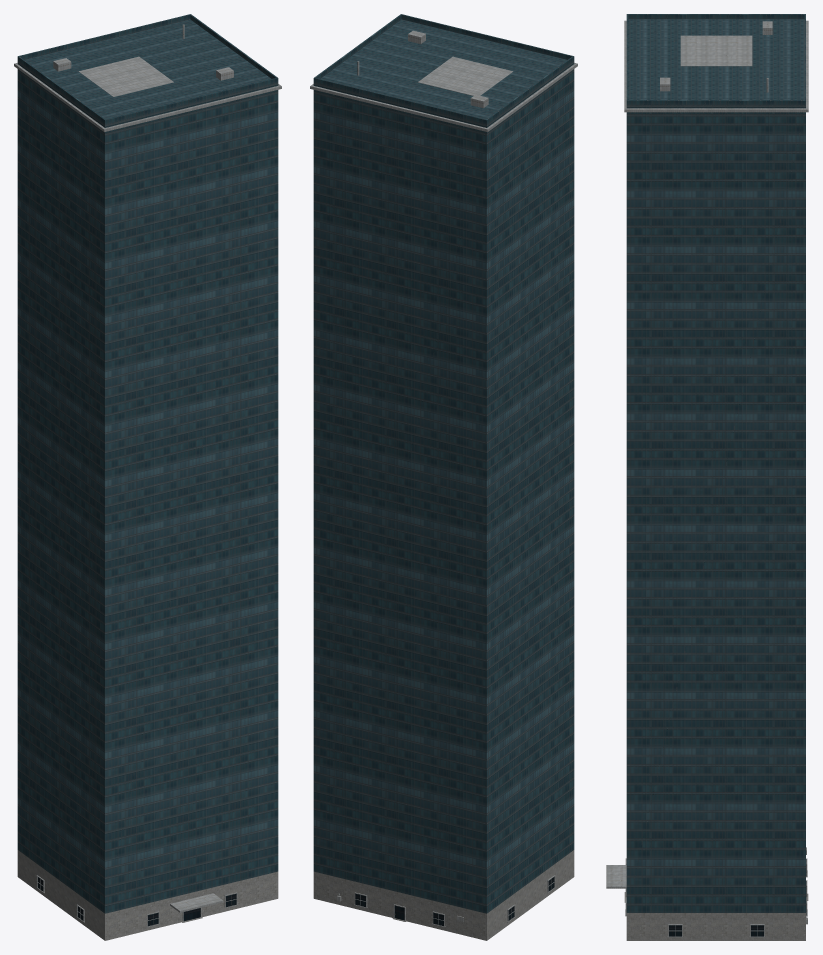
Rendered from atwater-glass-tower_lod0.gltf.
3 renders of one model, left to right at view 1: azimuth 30°, elevation 25°; view 2: azimuth 150°, elevation 25°; view 3: azimuth 270°, elevation 25°, orthographic. The views are drawn at different scales.
Visible parts, largest first — view 1: atwater-glass-tower_upper, atwater-glass-tower_base, atwater-glass-tower__helipad, atwater-glass-tower__cornice, atwater-glass-tower__parapet_front, atwater-glass-tower__parapet_back, atwater-glass-tower_fen_07-glass-curtain-blue_1_t; view 2: atwater-glass-tower_upper, atwater-glass-tower_base, atwater-glass-tower__helipad, atwater-glass-tower__cornice, atwater-glass-tower__parapet_back, atwater-glass-tower__parapet_front; view 3: atwater-glass-tower_upper, atwater-glass-tower_base, atwater-glass-tower__helipad, atwater-glass-tower__cornice, atwater-glass-tower__parapet_left, atwater-glass-tower__parapet_right, atwater-glass-tower__canopy.
Part boxes in pixels (x1=…): atwater-glass-tower_upper: x1=17, y1=19, x2=278, y2=913; atwater-glass-tower_base: x1=17, y1=850, x2=278, y2=940; atwater-glass-tower__helipad: x1=79, y1=56, x2=173, y2=96; atwater-glass-tower__cornice: x1=14, y1=63, x2=281, y2=132; atwater-glass-tower__parapet_front: x1=104, y1=77, x2=278, y2=124; atwater-glass-tower__parapet_back: x1=17, y1=14, x2=191, y2=60; atwater-glass-tower_fen_07-glass-curtain-blue_1_t: x1=37, y1=877, x2=236, y2=926; atwater-glass-tower_upper: x1=313, y1=19, x2=574, y2=913; atwater-glass-tower_base: x1=313, y1=850, x2=574, y2=940; atwater-glass-tower__helipad: x1=418, y1=56, x2=512, y2=95; atwater-glass-tower__cornice: x1=310, y1=63, x2=577, y2=132; atwater-glass-tower__parapet_back: x1=313, y1=77, x2=487, y2=124; atwater-glass-tower__parapet_front: x1=400, y1=14, x2=574, y2=60; atwater-glass-tower_upper: x1=626, y1=19, x2=805, y2=912; atwater-glass-tower_base: x1=626, y1=913, x2=805, y2=940; atwater-glass-tower__helipad: x1=680, y1=35, x2=752, y2=66; atwater-glass-tower__cornice: x1=624, y1=20, x2=808, y2=112; atwater-glass-tower__parapet_left: x1=628, y1=14, x2=804, y2=19; atwater-glass-tower__parapet_right: x1=628, y1=100, x2=804, y2=105; atwater-glass-tower__canopy: x1=606, y1=865, x2=626, y2=888.
Size of the model in its own units: 41 by 183 by 39.5.
